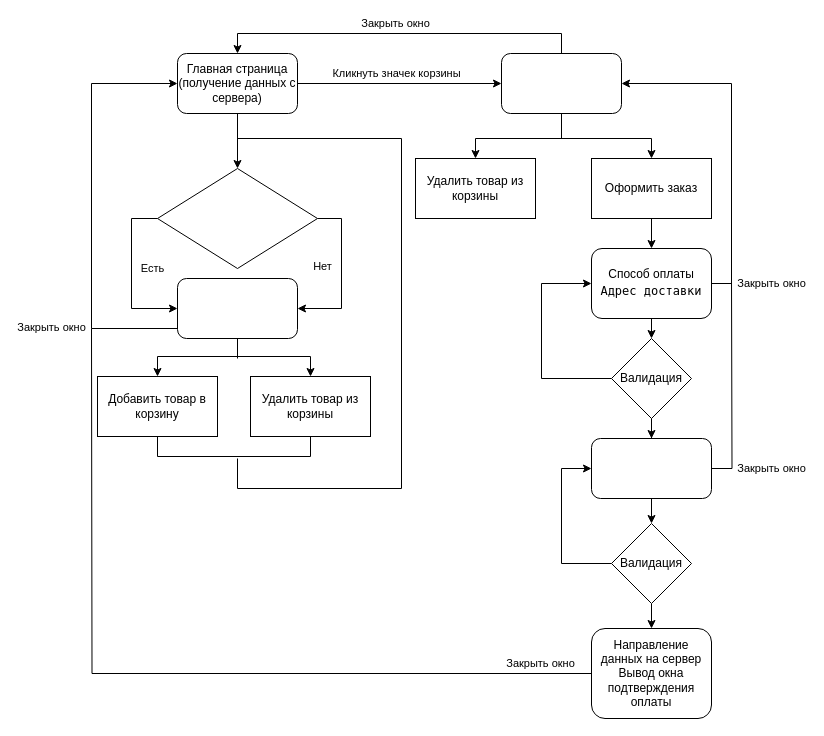
This 824x736 diagram has some shape labels left out. Here are the shapes that lost their labels. From the top down, the centre of each, then its label:
point 561,83: Корзина
point 237,218: Проверить корзину
point 237,308: Карточка товара
point 651,468: Телефон Эл.почта
